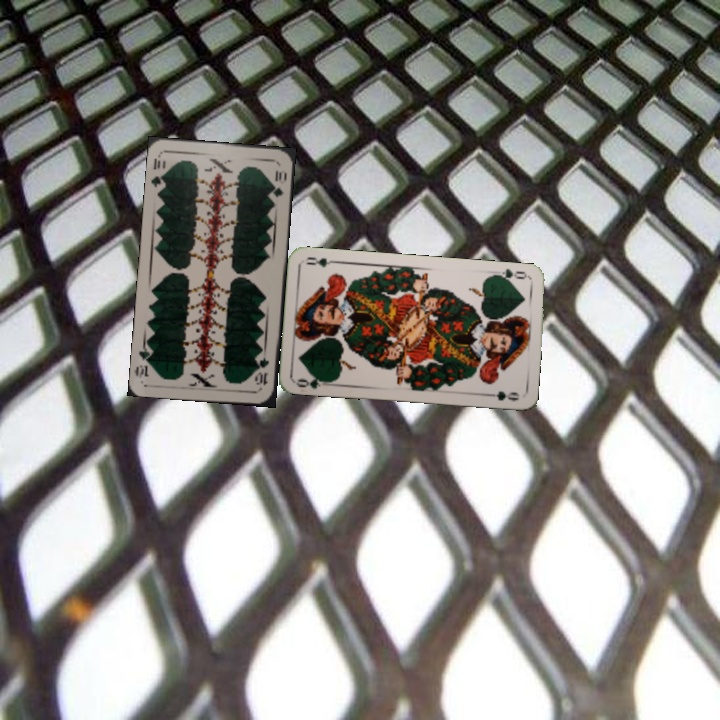G10: (148, 152, 168, 193), (253, 349, 272, 388)
GO: (293, 371, 334, 391), (490, 265, 531, 285)
